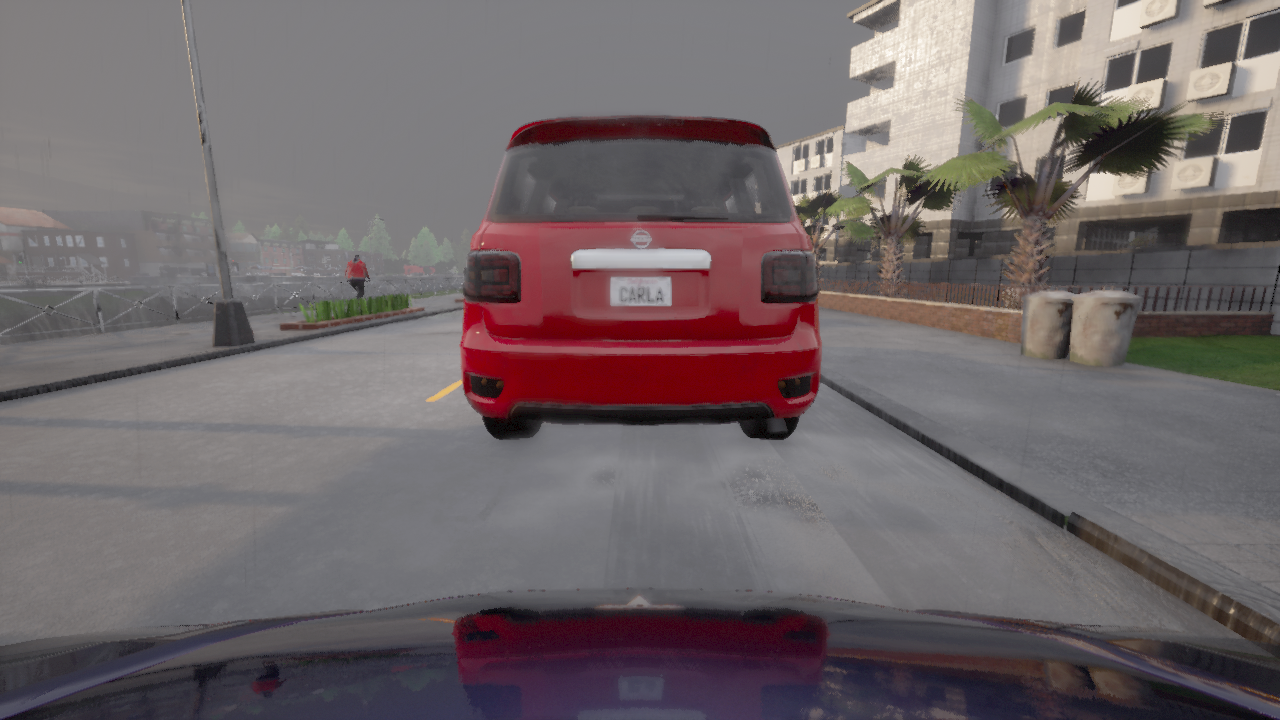cyclist: (0, 588, 1279, 719), (460, 116, 821, 438), (431, 271, 457, 276)
pedestrian: (344, 253, 370, 307)
